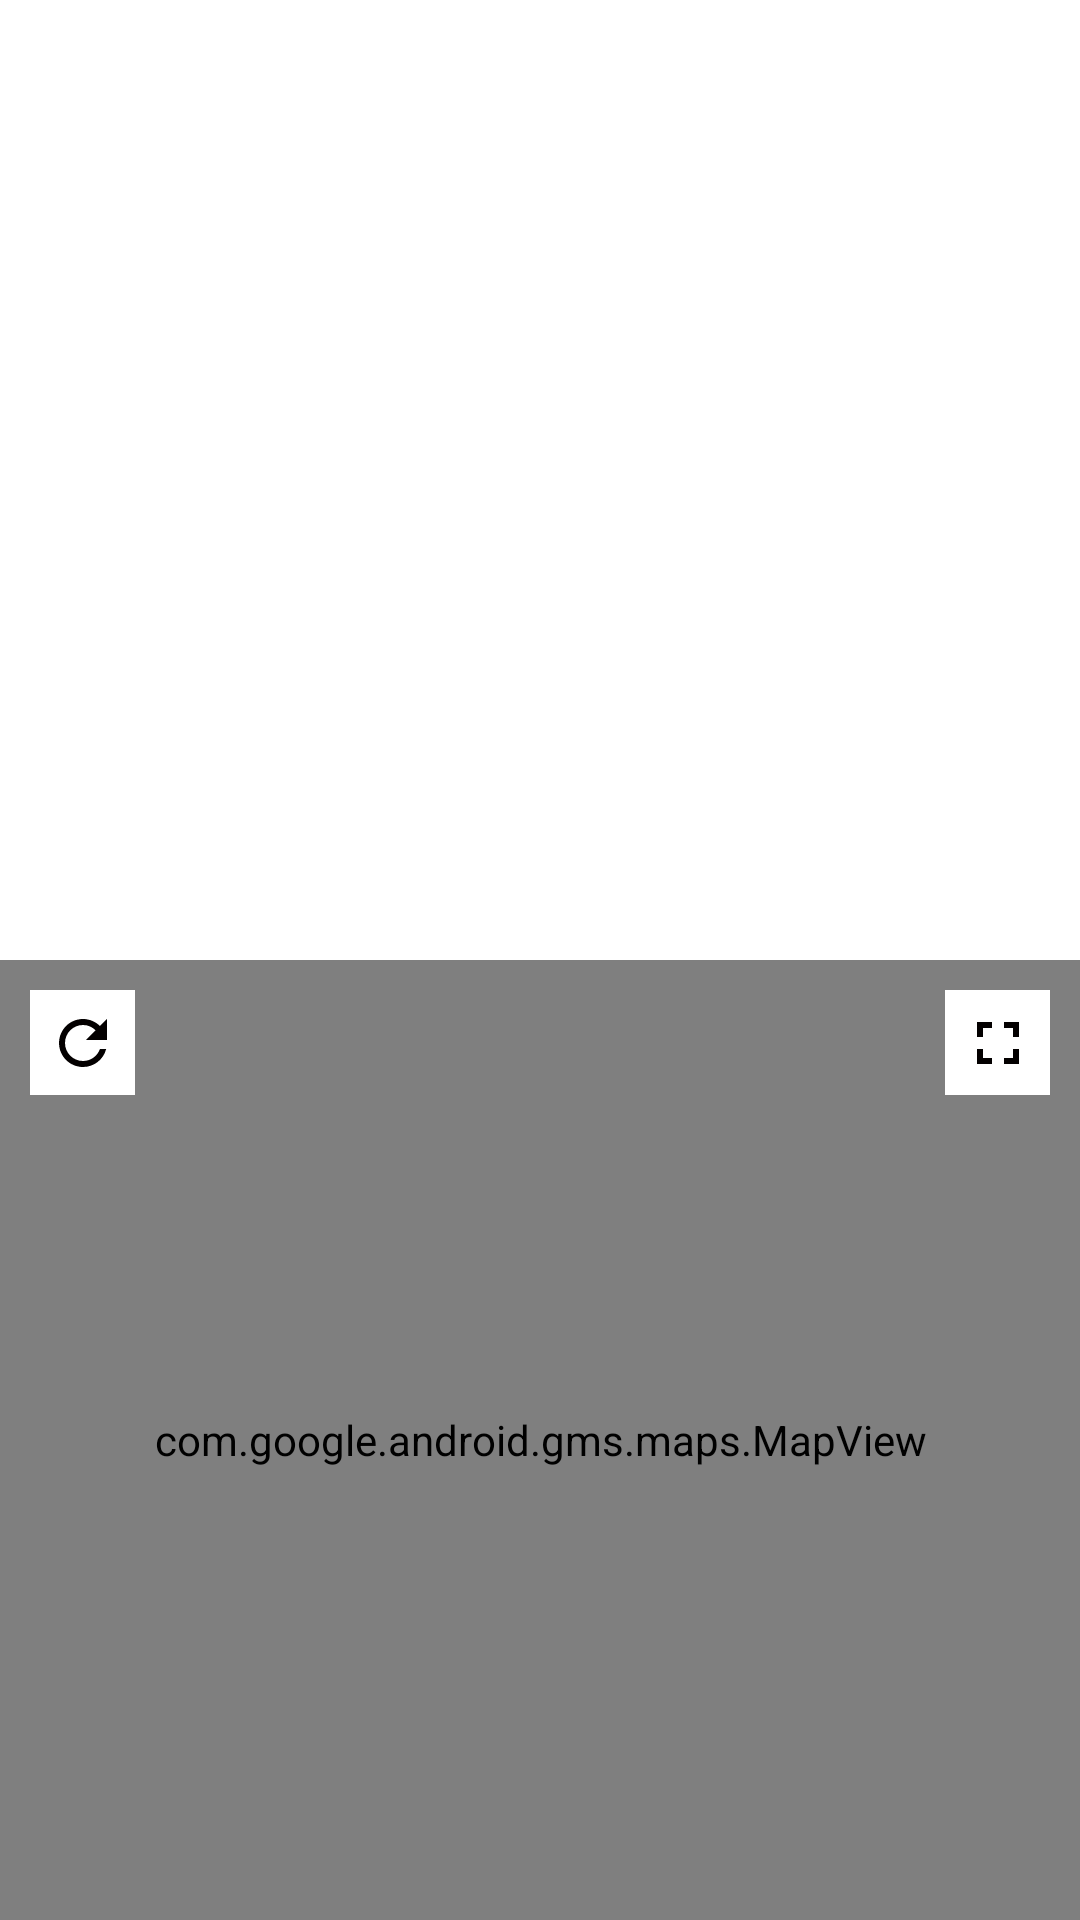

Icons on this 1080w x 1920h Android screen, each with its box as BBox(x1, y1, x2, y2):
full screen: BBox(945, 990, 1050, 1095)
refresh: BBox(30, 990, 135, 1095)
